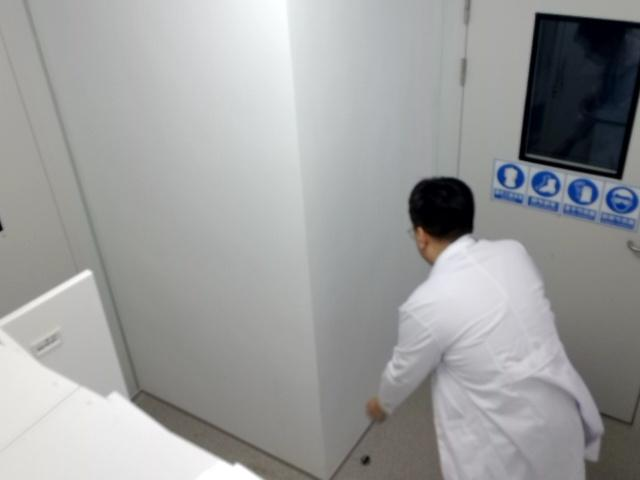Lab_coat: (367, 177, 603, 479)
